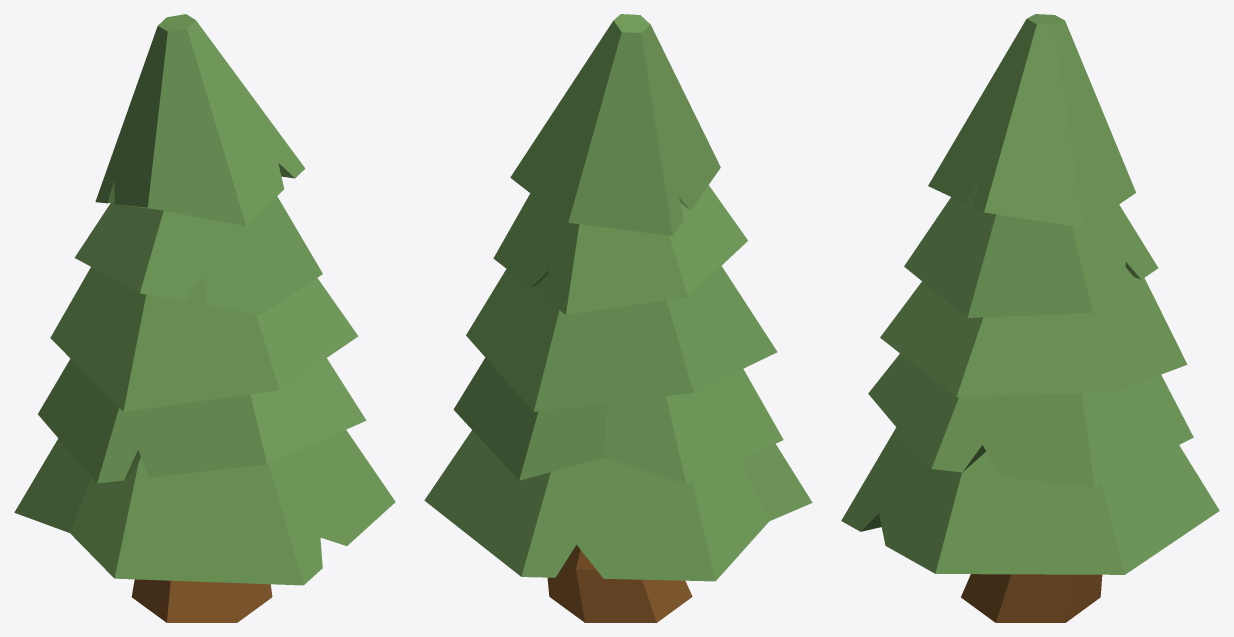
The model's file is Boom_AlexBlok.fbx.
The picture shows the model from 3 angles, left to right: view 1: azimuth 30°, elevation 25°; view 2: azimuth 150°, elevation 25°; view 3: azimuth 270°, elevation 25°; orthographic projection. The views are drawn at different scales.
Visible parts, largest first — view 1: Cylinder.001; view 2: Cylinder.001; view 3: Cylinder.001.
Boxes of the visible parts, left/top/right/bottom form: Cylinder.001: left=14, top=14, right=395, bottom=622; Cylinder.001: left=424, top=14, right=812, bottom=622; Cylinder.001: left=841, top=14, right=1219, bottom=622.
Size of the model in its own units: 346 by 665 by 399.
